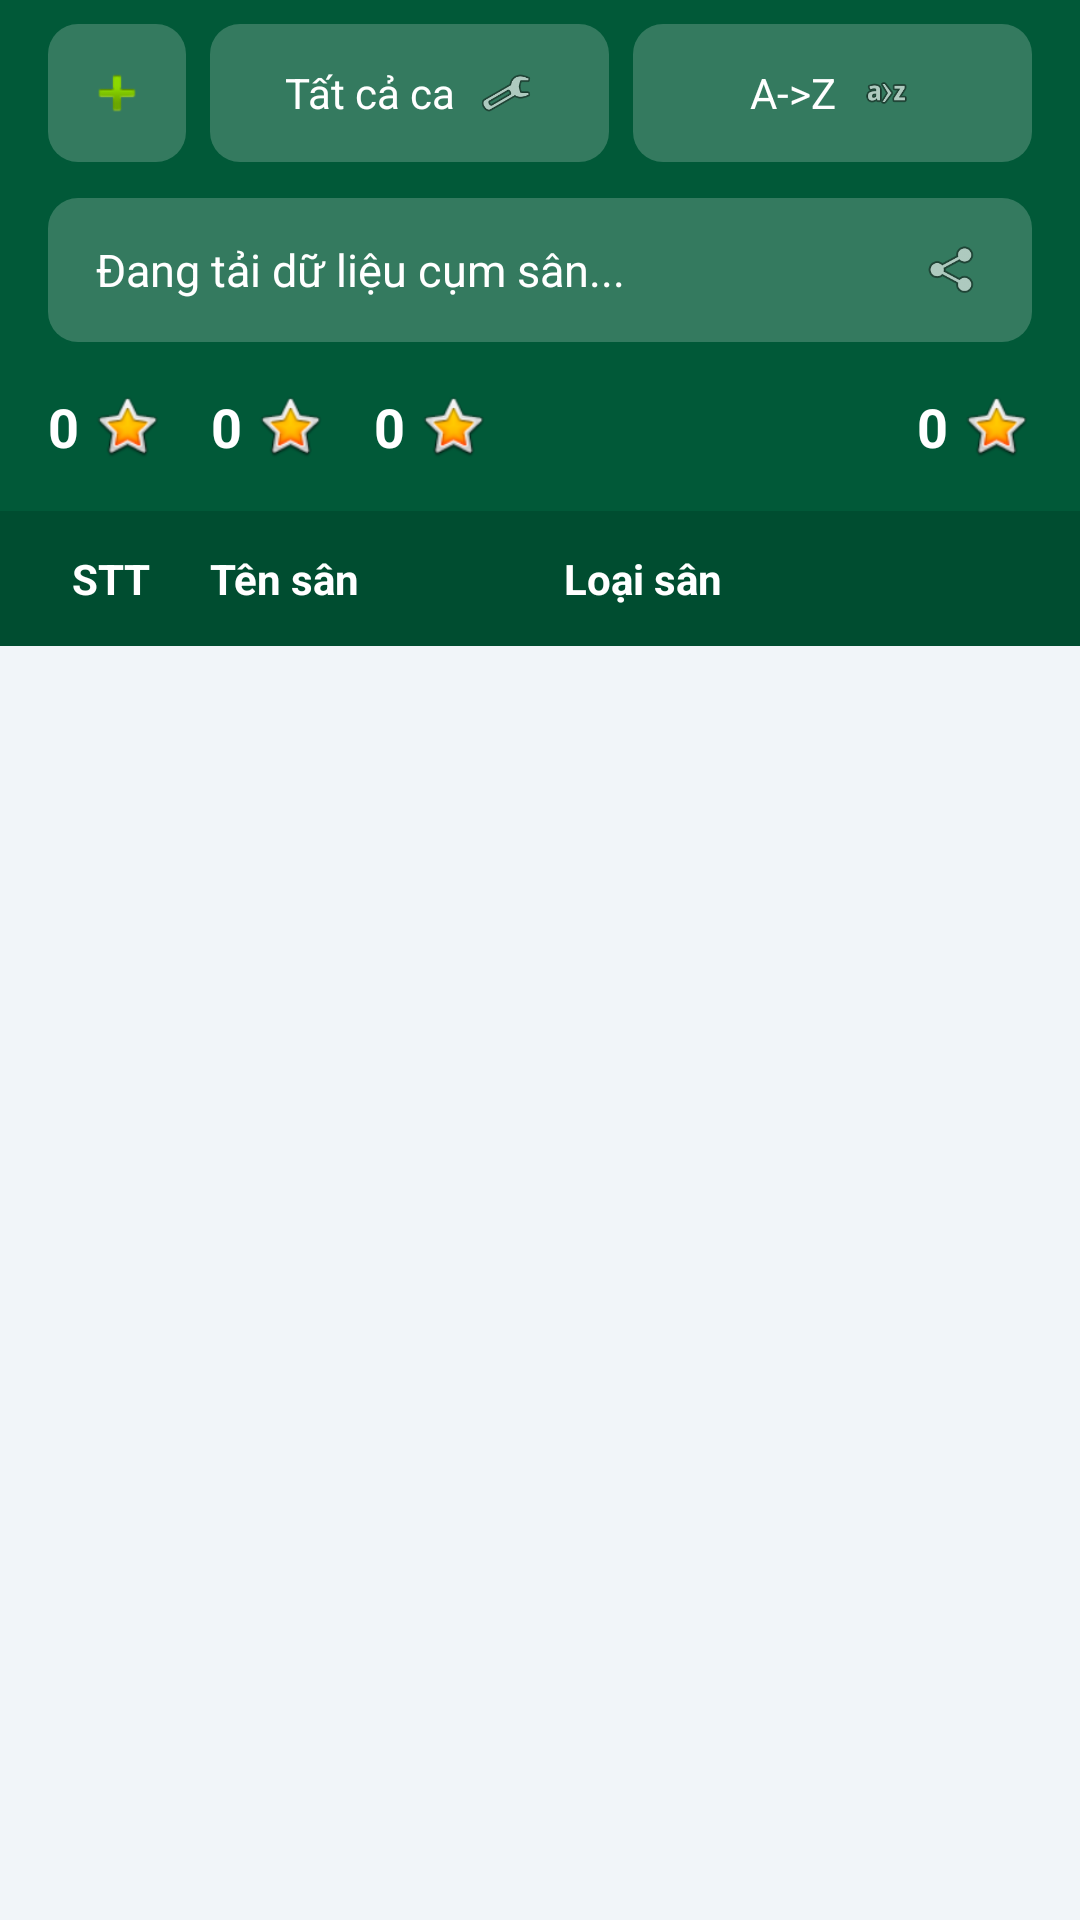

Where icons sit on this 1080px x 1920px app screen, as (x1, y1, x2, y2):
add: (48, 24, 186, 162)
manage: (482, 75, 530, 111)
share: (929, 246, 973, 293)
sort alphabetically: (866, 82, 907, 104)
star on: (99, 398, 157, 455), (262, 398, 320, 455), (425, 398, 483, 455), (968, 398, 1026, 455)
